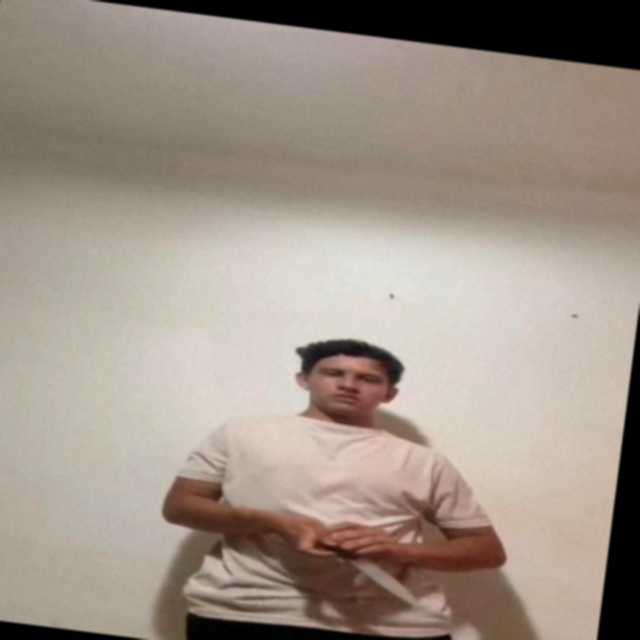Sharp-Object: (352, 559, 414, 600)
